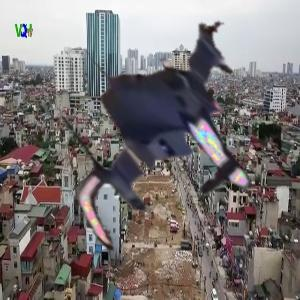drone: (42, 14, 292, 264)
